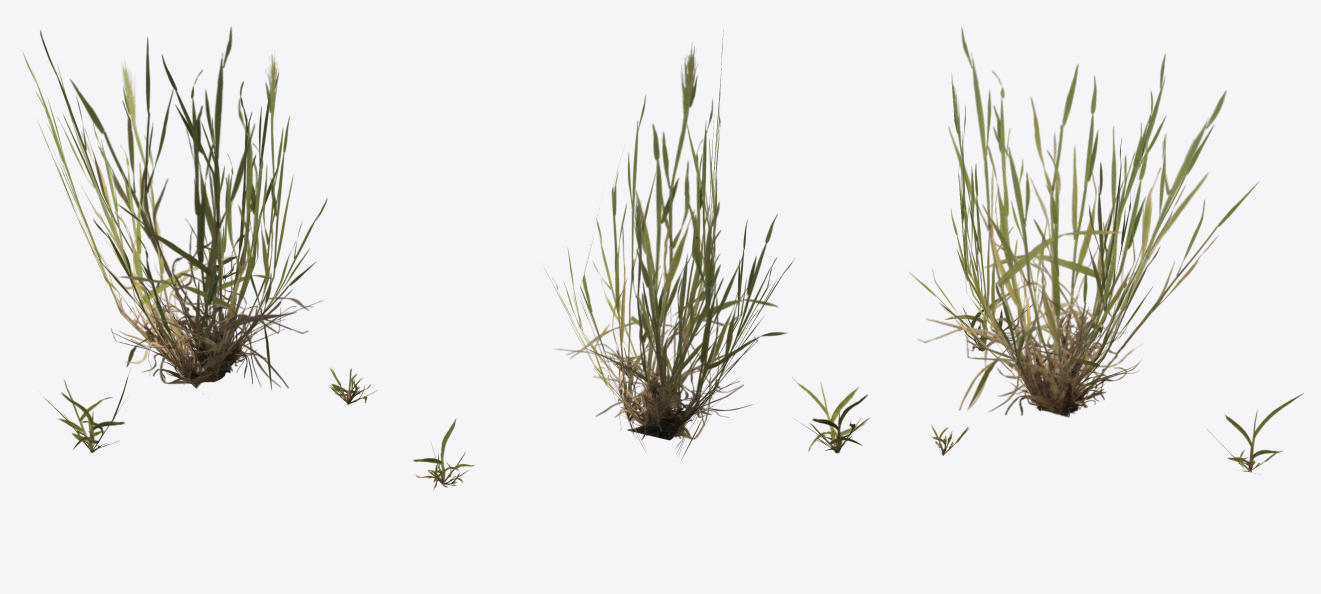
Rendered from meadow_clumps.glb.
3 renders of one model, left to right at view 1: azimuth 30°, elevation 25°; view 2: azimuth 150°, elevation 25°; view 3: azimuth 270°, elevation 25°, orthographic. The views are drawn at different scales.
Visible parts, largest first — view 1: rostlinka_07c_rostlinka_07c_0, r12_a_rostlinka12_2k_0, r12_c_rostlinka12_2k_0; view 2: rostlinka_07c_rostlinka_07c_0, r12_a_rostlinka12_2k_0, r12_b_rostlinka12_2k_0; view 3: rostlinka_07c_rostlinka_07c_0, r12_b_rostlinka12_2k_0, r12_a_rostlinka12_2k_0.
Boxes of the visible parts, <box> form: rostlinka_07c_rostlinka_07c_0: <box>22,26,327,398</box>; r12_a_rostlinka12_2k_0: <box>41,369,130,452</box>; r12_c_rostlinka12_2k_0: <box>328,367,377,404</box>; rostlinka_07c_rostlinka_07c_0: <box>544,30,794,459</box>; r12_a_rostlinka12_2k_0: <box>791,376,869,453</box>; r12_b_rostlinka12_2k_0: <box>413,419,474,490</box>; rostlinka_07c_rostlinka_07c_0: <box>908,27,1258,417</box>; r12_b_rostlinka12_2k_0: <box>1207,393,1303,474</box>; r12_a_rostlinka12_2k_0: <box>938,272,1032,351</box>.
Bounding box in the file's own units: 0.345 × 0.5639 × 0.372.
2 materials, 2 textured.
